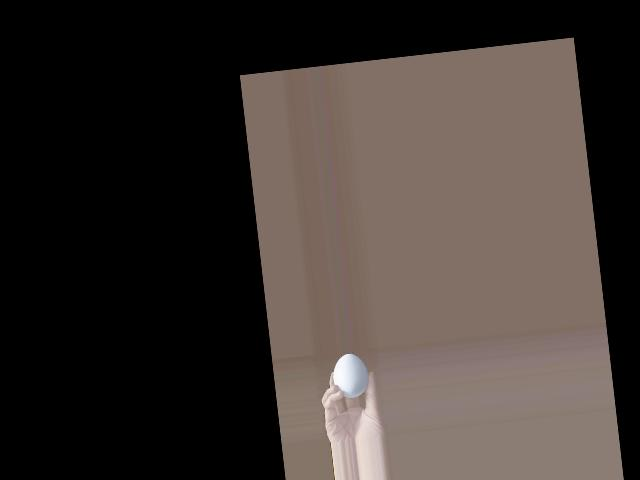egg: (329, 351, 369, 399)
